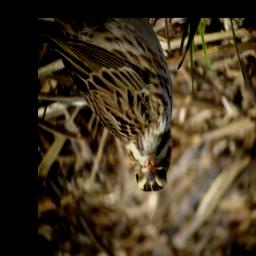Sparrow: (40, 19, 176, 194)
